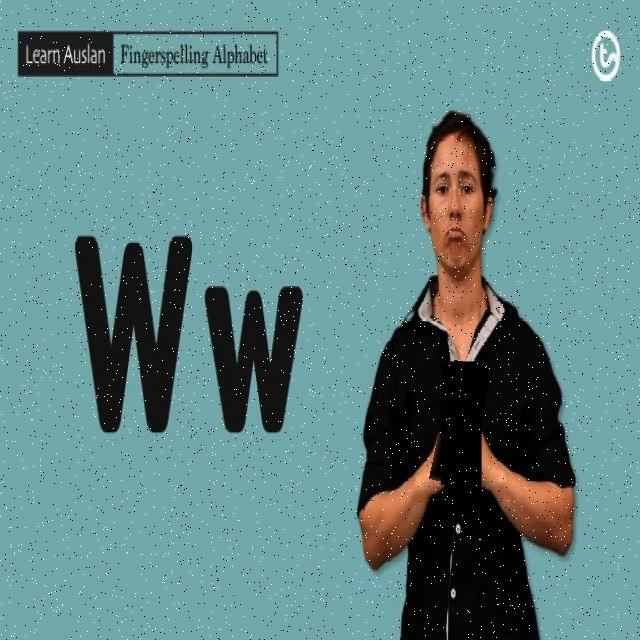W: (436, 363, 488, 487)
